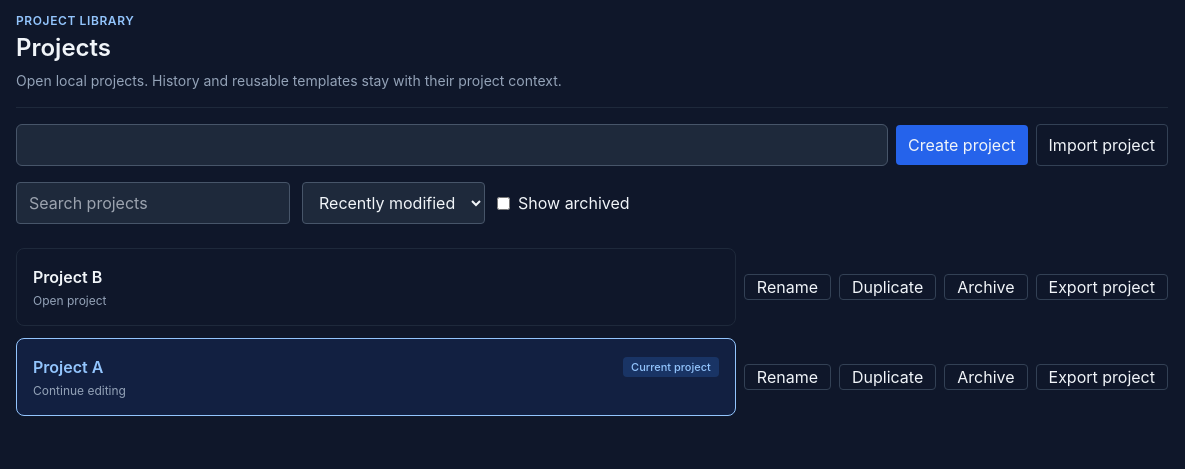
Test: ProjectsPage › does not duplicate a project when the coordinated save fails
The image size is (1185, 469).
Click the 2nd button "Duplicate": coordinates (888, 377) [839,364,936,390]
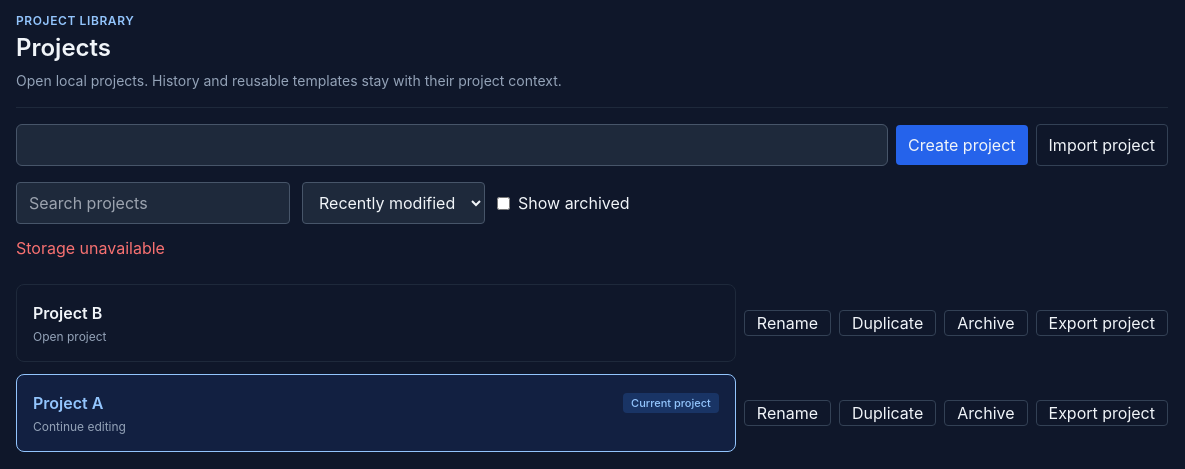
Expected: the message reads "Storage unavailable", [16,238,165,258]
